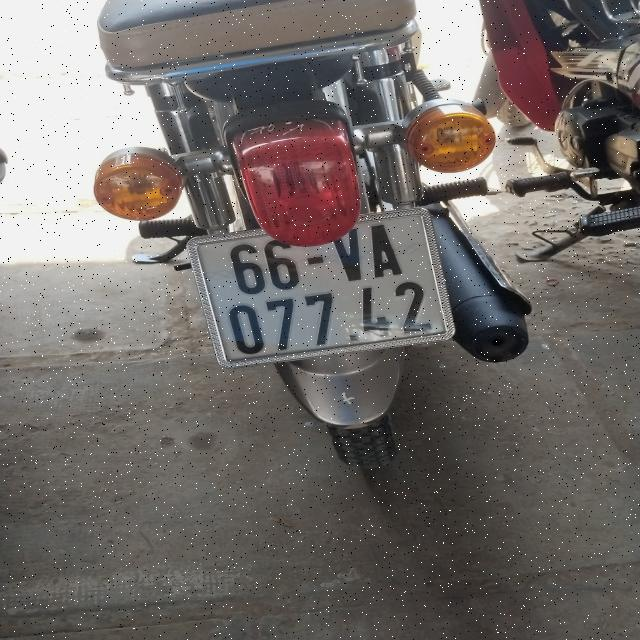0: (228, 304, 264, 354)
2: (394, 281, 434, 335)
4: (358, 286, 390, 340)
6: (228, 243, 266, 295), (264, 238, 300, 290)
7: (303, 290, 332, 348), (268, 300, 299, 354)
A: (371, 224, 402, 276)
V: (330, 227, 369, 283)
